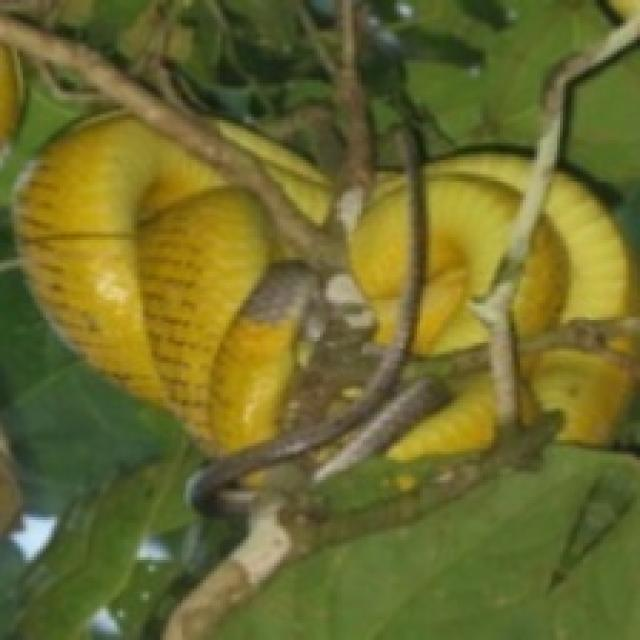red-tailed green ratsnake: (17, 114, 311, 451), (411, 151, 529, 354), (511, 171, 629, 337), (211, 120, 331, 229), (346, 174, 409, 343), (520, 349, 629, 443), (389, 371, 494, 457)
